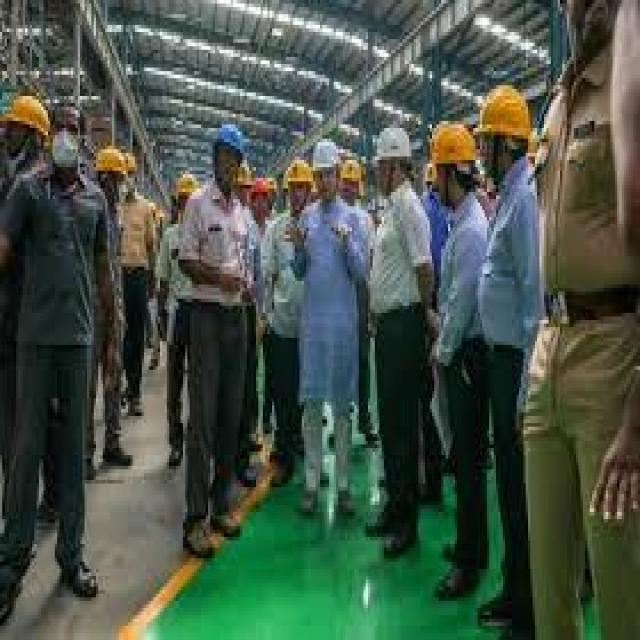safety_helmet: (470, 78, 537, 149), (0, 85, 55, 142), (425, 117, 480, 174), (208, 113, 253, 163), (372, 121, 416, 167), (283, 149, 315, 191), (311, 135, 343, 177)
